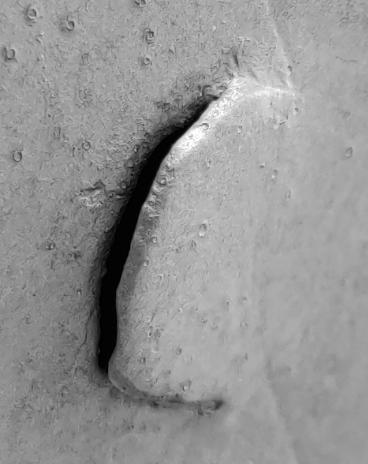crack: (1, 0, 368, 464)
